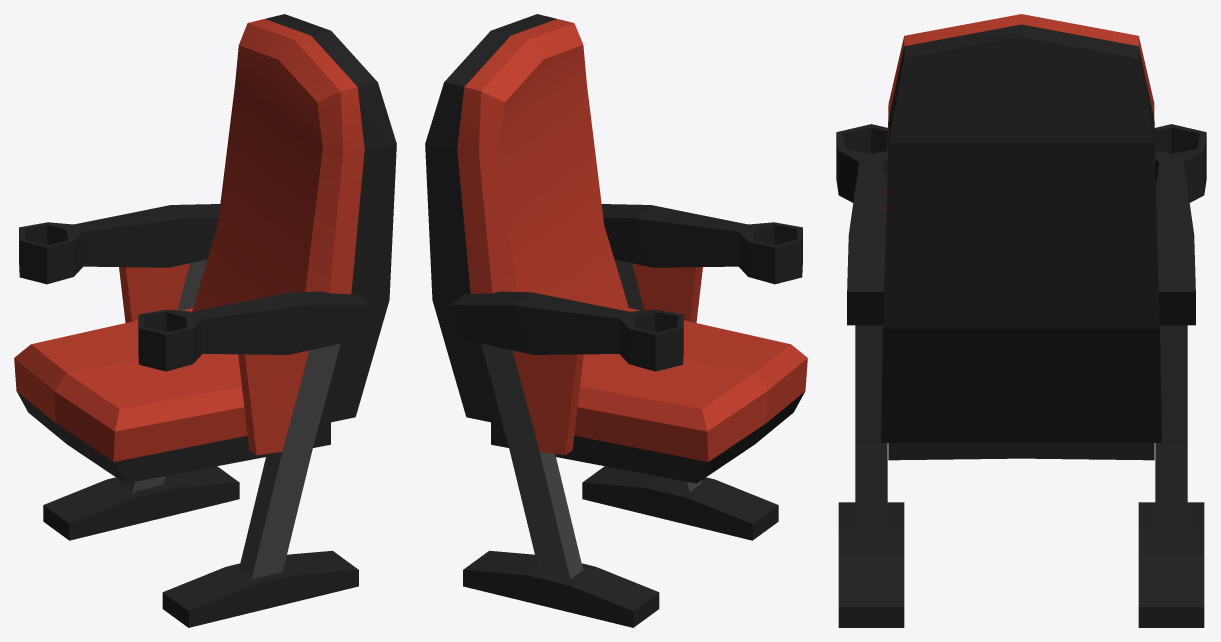
Rendered from Cinema_Chair.fbx.
3 views of the same model, side by side, from view 1: azimuth 30°, elevation 25°; view 2: azimuth 150°, elevation 25°; view 3: azimuth 270°, elevation 25° (orthographic). The views are drawn at different scales.
Visible parts, largest first — view 1: polySurface1526.004; view 2: polySurface1526.004; view 3: polySurface1526.004.
Part boxes in pixels (x1,y1,x2,y2): polySurface1526.004: [14, 14, 396, 627]; polySurface1526.004: [425, 14, 807, 627]; polySurface1526.004: [836, 14, 1206, 627].
Size of the model in its own units: 155 by 252 by 137.
Materials: 1 (1 with a texture image).
